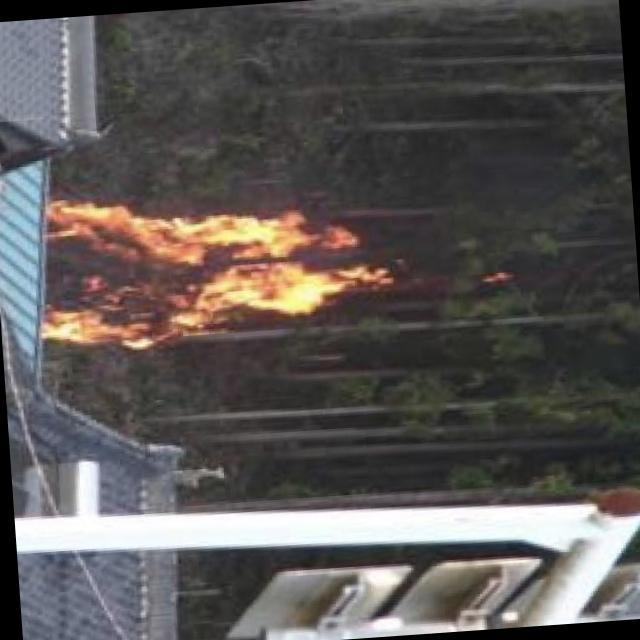Fire: (31, 178, 379, 355)
